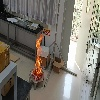fire: (33, 33, 44, 80)
